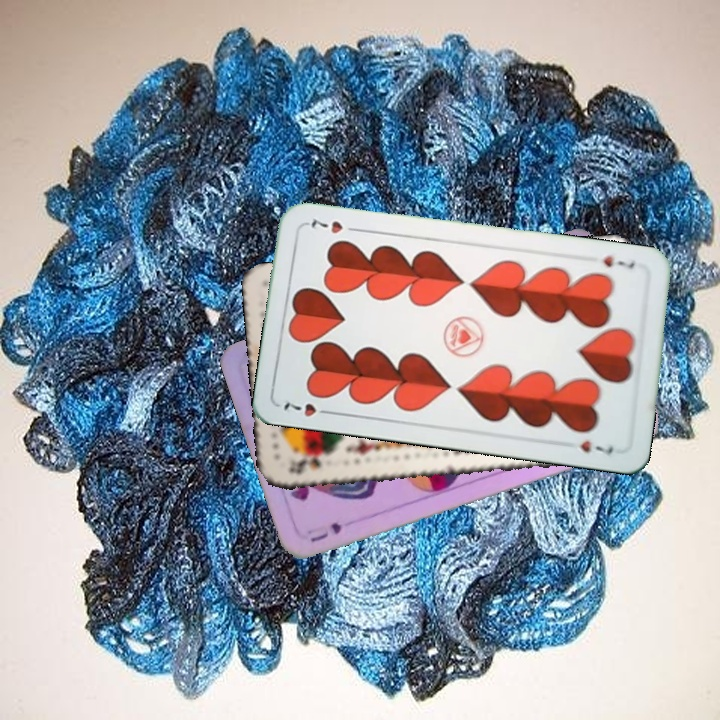H7: (280, 397, 336, 419), (599, 252, 639, 271)
SK: (285, 452, 325, 477)
SU: (303, 518, 345, 545)
